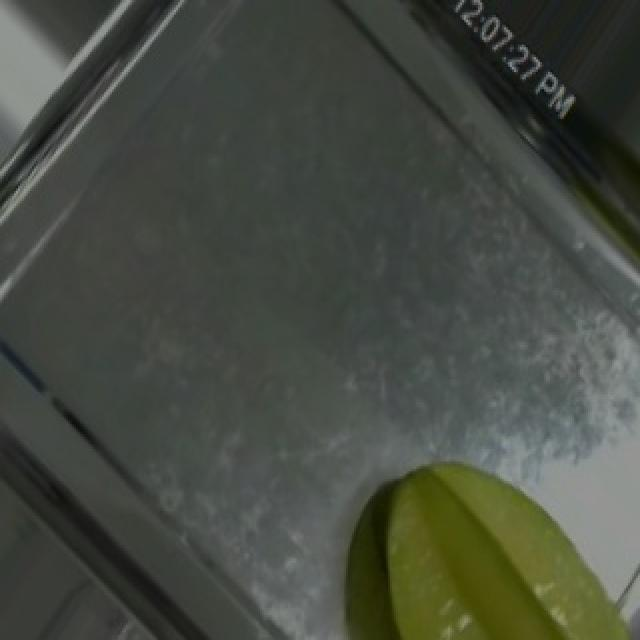fruit: (324, 426, 640, 640)
